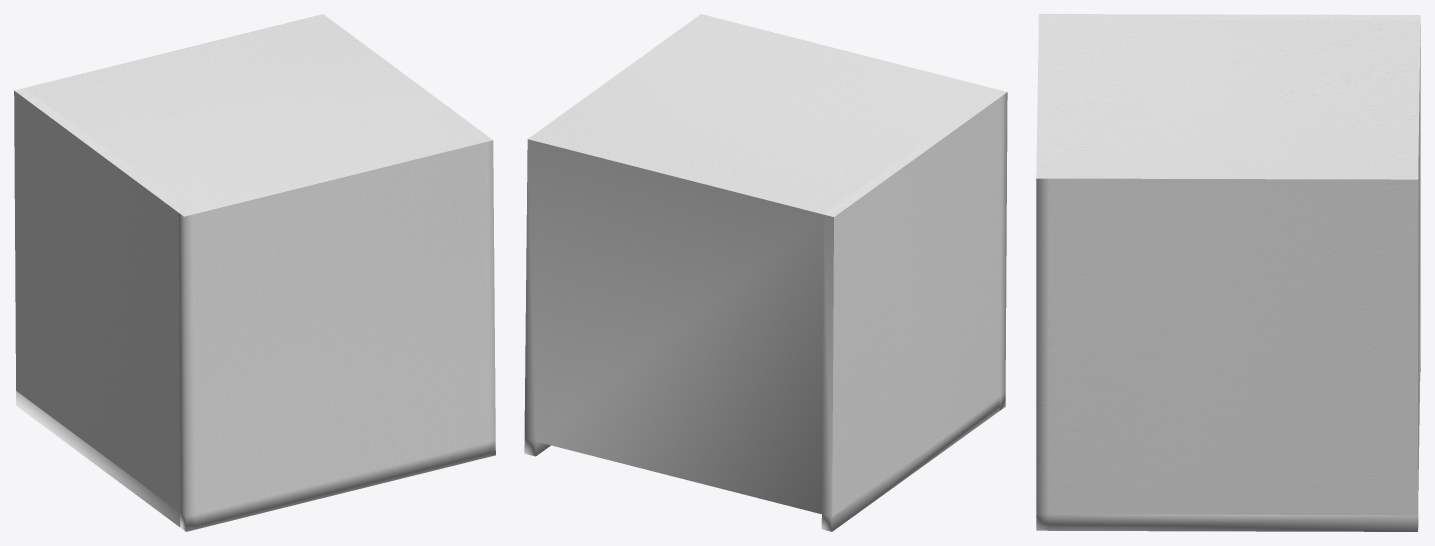
File: ceiling_lonely.FBX
3 renders of one model, left to right at view 1: azimuth 30°, elevation 25°; view 2: azimuth 150°, elevation 25°; view 3: azimuth 270°, elevation 25°, orthographic. The views are drawn at different scales.
Parts seen in each view (by area): view 1: ceiling_lonely; view 2: ceiling_lonely; view 3: ceiling_lonely.
Part boxes in pixels (bbox=[...]): ceiling_lonely: bbox=[14, 14, 495, 531]; ceiling_lonely: bbox=[524, 14, 1007, 531]; ceiling_lonely: bbox=[1036, 14, 1420, 531].
Size of the model in its own units: 1.09 by 1.04 by 1.06.
Materials: 1 (1 with a texture image).
